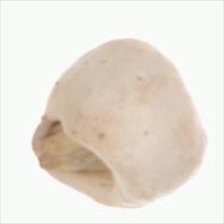L3: (29, 114, 117, 188)
L4: (32, 38, 207, 208)
